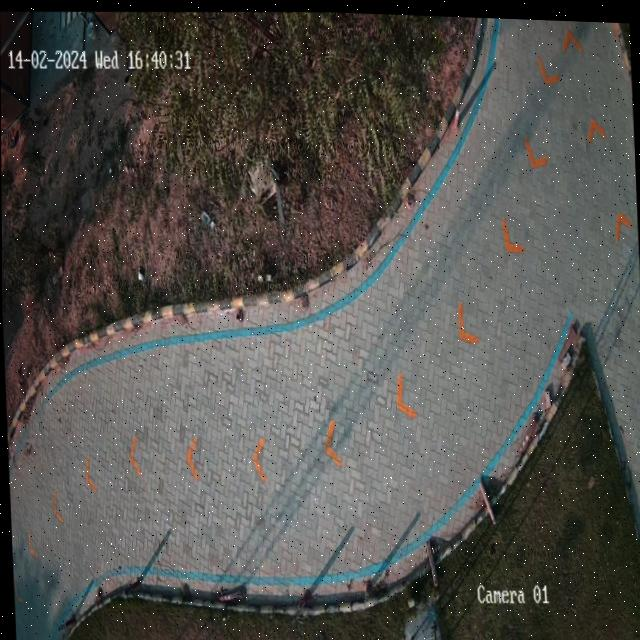No Car: (0, 9, 640, 640)
